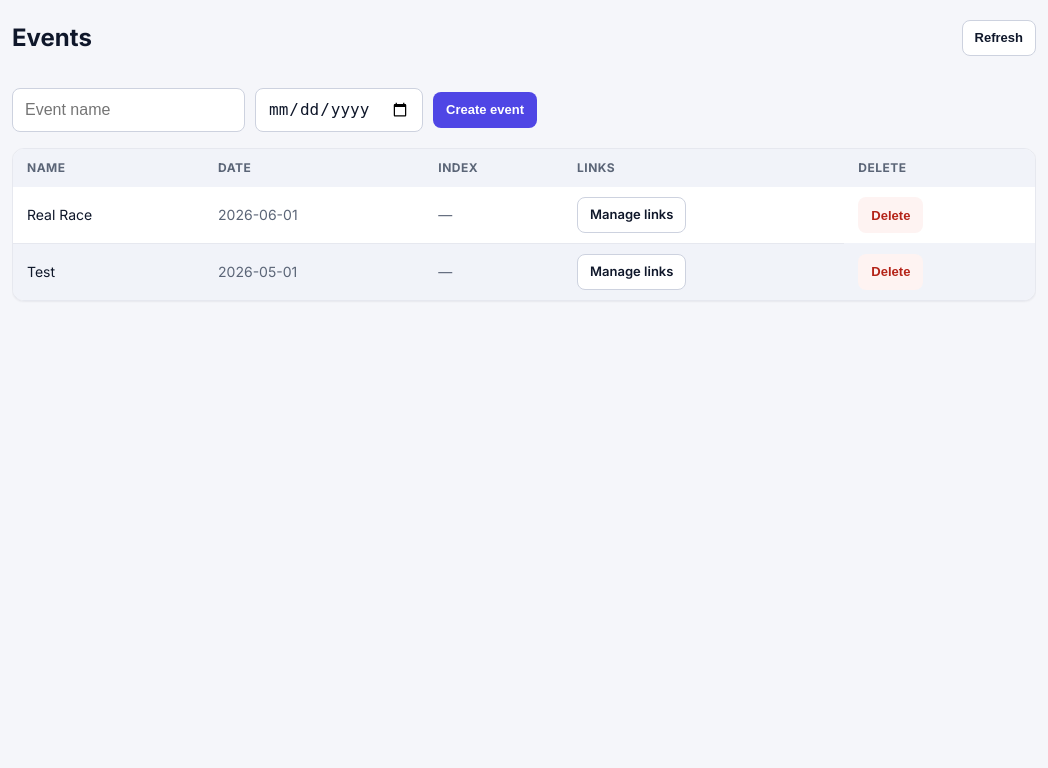
Test case: <AdminEvents /> delete › first click only previews — it posts nothing and shows the inventory
expect the text "Real Race" is shown: met, box top-left (13, 187), bottom-right (204, 243)
Step 1. Click the button "Delete" in the row of "Real Race" → [891, 215], box top-left (858, 197), bottom-right (923, 233)
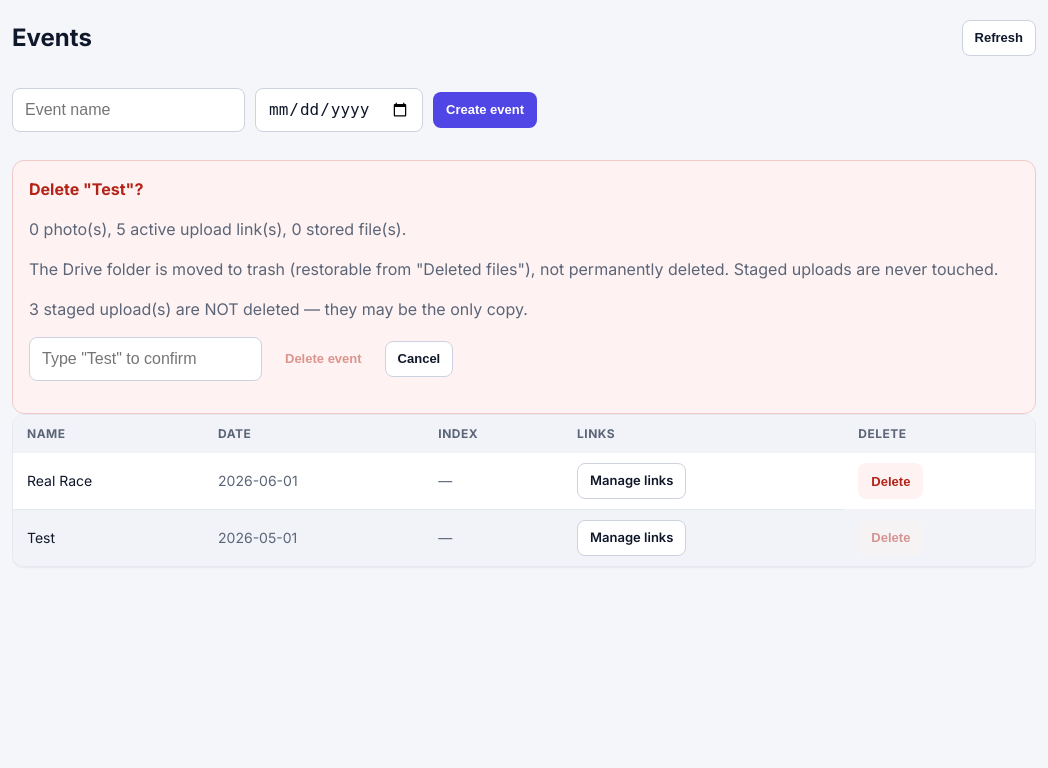
expect the heading "Delete \"Test\"?" is shown: met, box top-left (29, 179), bottom-right (143, 199)
expect the text "0 photo(s), 5 active upload link(s), 0 stored file(s)." is shown: met, box top-left (29, 219), bottom-right (406, 239)
expect the text "NOT deleted" is shown: met, box top-left (29, 299), bottom-right (528, 319)
